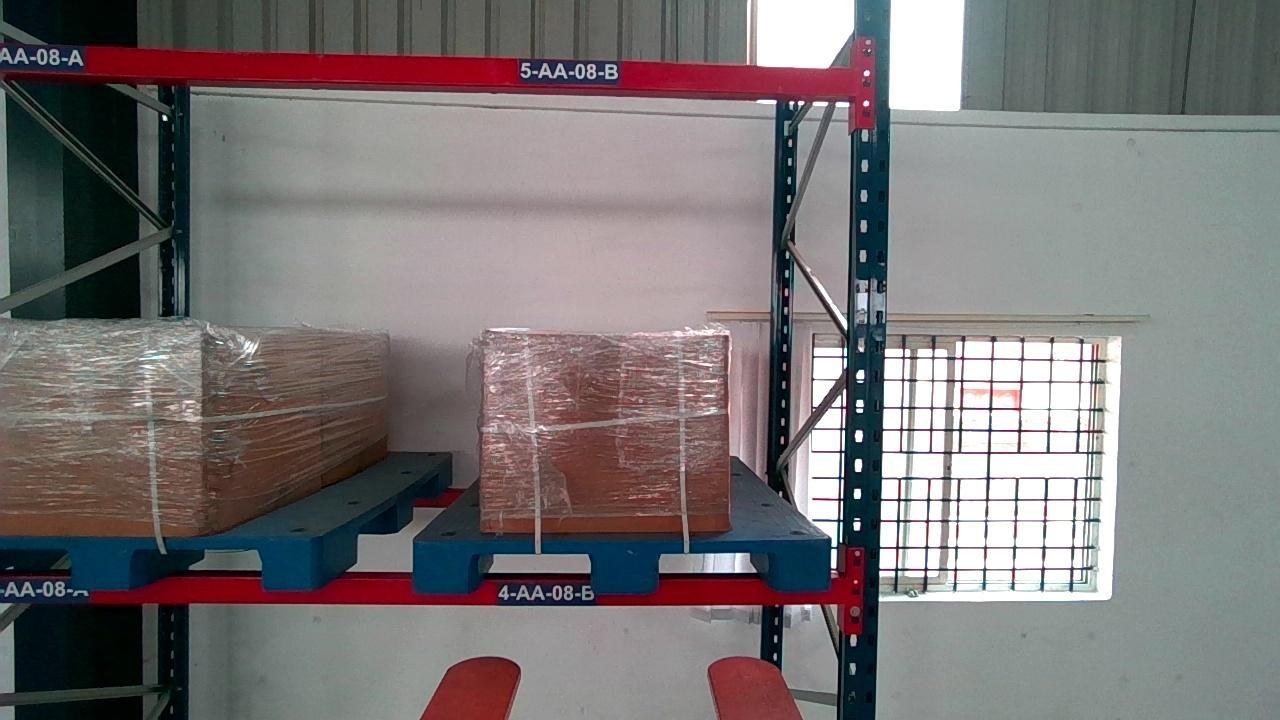h_rack: (4, 41, 867, 98), (7, 573, 853, 601)
small_pallet: (412, 539, 830, 593), (3, 534, 313, 590)
